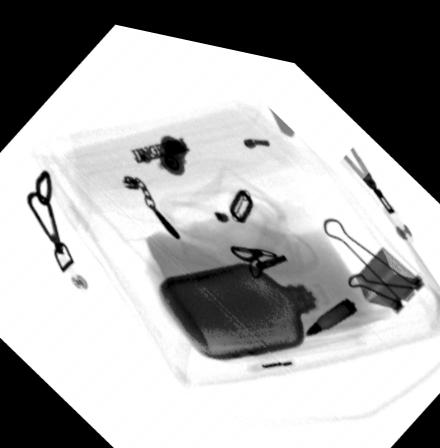Bullet: (304, 279, 359, 323)
